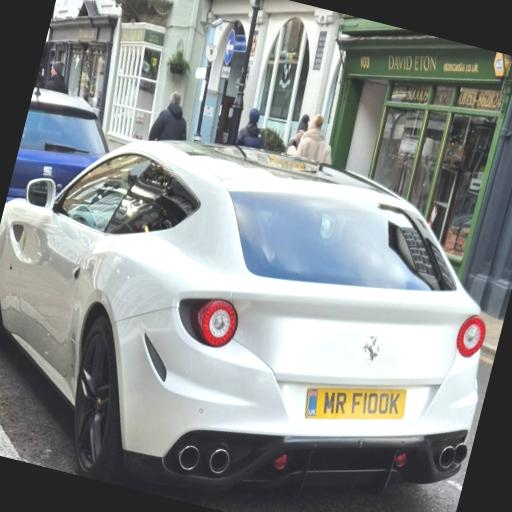numberplates: (306, 388, 406, 419)
